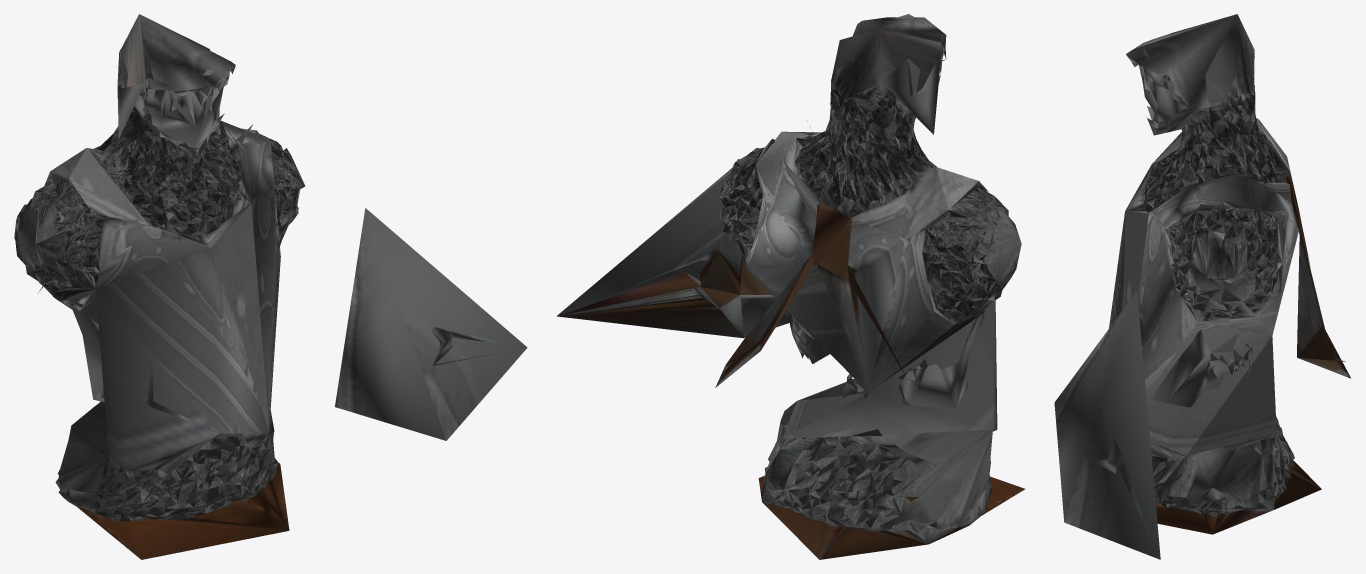
The model's file is armour_stand.glb.
3 views of the same model, side by side, from view 1: azimuth 30°, elevation 25°; view 2: azimuth 150°, elevation 25°; view 3: azimuth 270°, elevation 25° (orthographic). The views are drawn at different scales.
Visible parts, largest first — view 1: armour_stand; view 2: armour_stand; view 3: armour_stand.
Boxes of the visible parts, left/top/right/bottom form: armour_stand: left=14, top=14, right=527, bottom=559; armour_stand: left=557, top=14, right=1025, bottom=559; armour_stand: left=1054, top=14, right=1350, bottom=559.
Bounding box in the file's own units: 1.76 × 1.72 × 0.9871.
1 material, 1 textured.
